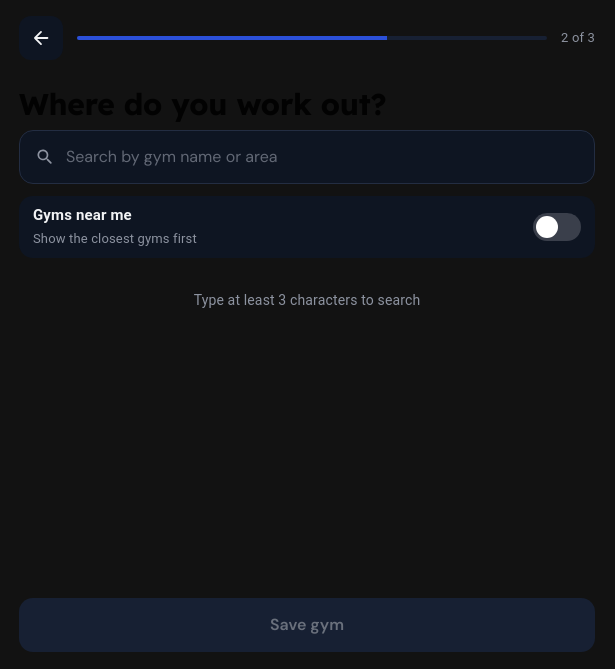
it: the search box › has no clear button until there is text, then a ✕ that empties the box and keeps focus there
Type "iron" into the search field named "search gyms" at {"x": 307, "y": 157}, box x1=19 y1=130 x2=595 y2=184
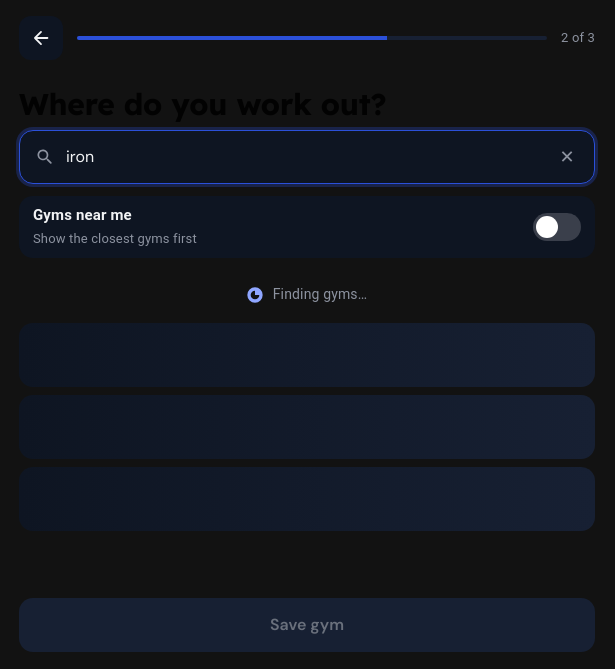
Result: the button named "Clear search" reads "✕"
Click the button named "Clear search" at {"x": 567, "y": 157}, box x1=545 y1=135 x2=589 y2=179
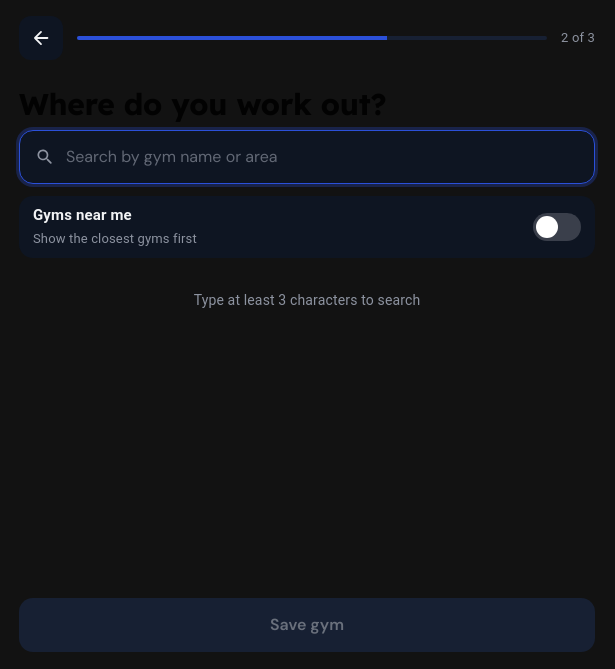
Result: the search field named "search gyms" is empty at x1=19 y1=130 x2=595 y2=184
